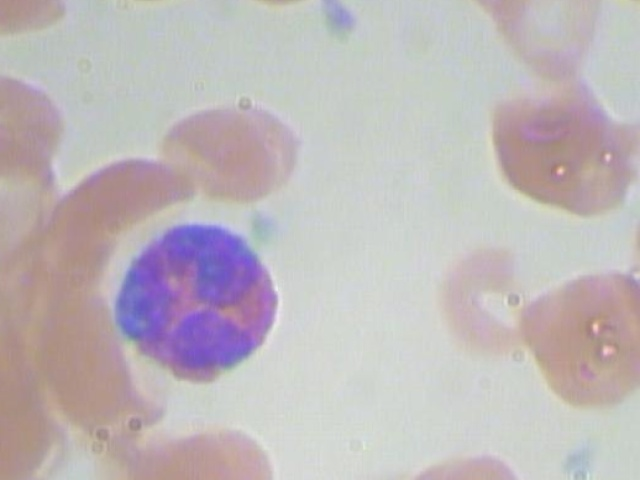Platelets: (312, 0, 365, 48)
RBC: (470, 81, 640, 218), (516, 267, 640, 414), (159, 91, 314, 208), (431, 244, 545, 359), (490, 0, 608, 84), (0, 0, 70, 43), (446, 0, 564, 14), (630, 179, 640, 302), (200, 0, 342, 8)
WBC: (99, 216, 296, 391)
